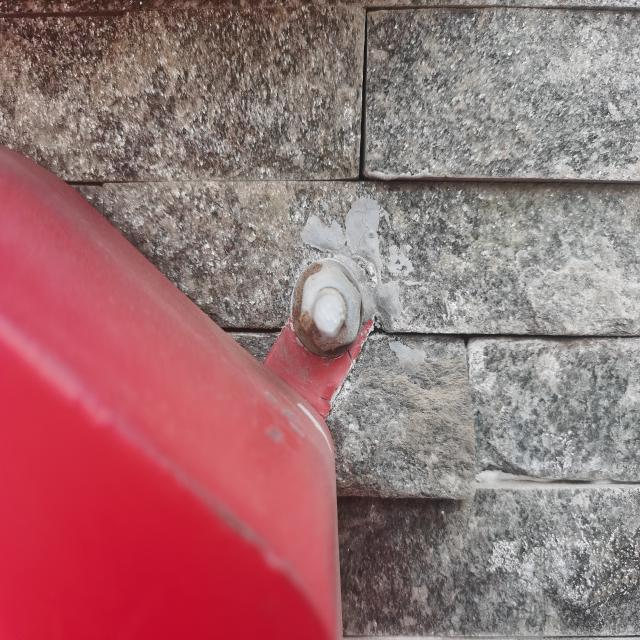bolt nut: (296, 265, 362, 355)
